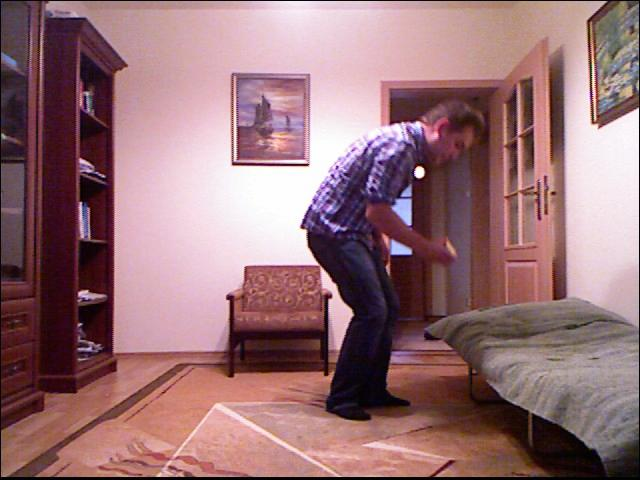bending: (291, 84, 491, 426)
